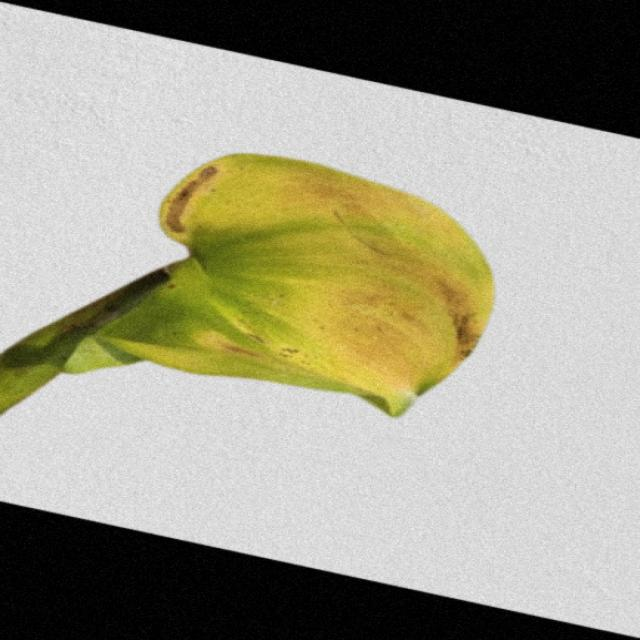daun berpenyakit kuning: (2, 154, 493, 416)
